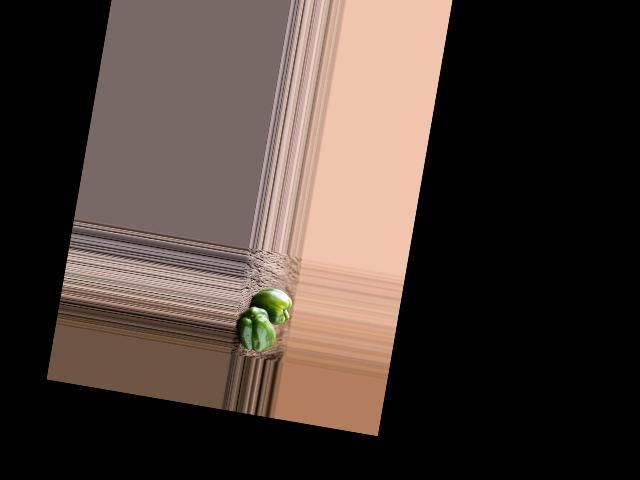bell_pepper: (236, 303, 281, 354)
